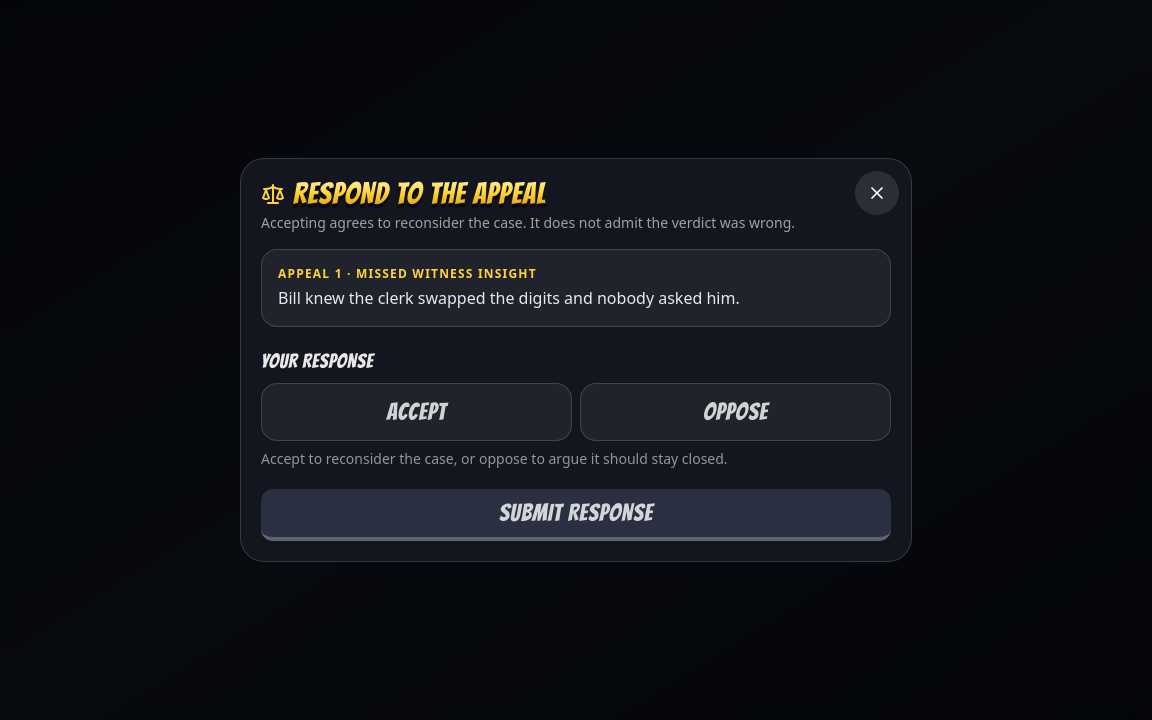
Test: AppealResponseForm › cannot be sent until a choice and an explanation are given, then sends the choice and the picked items
Later steps or results of the test are not shown.
Expected: the button "SUBMIT RESPONSE" is disabled, [261, 489, 891, 541]
Click the button "OPPOSE". click: point(736, 412)
box: [580, 383, 891, 441]
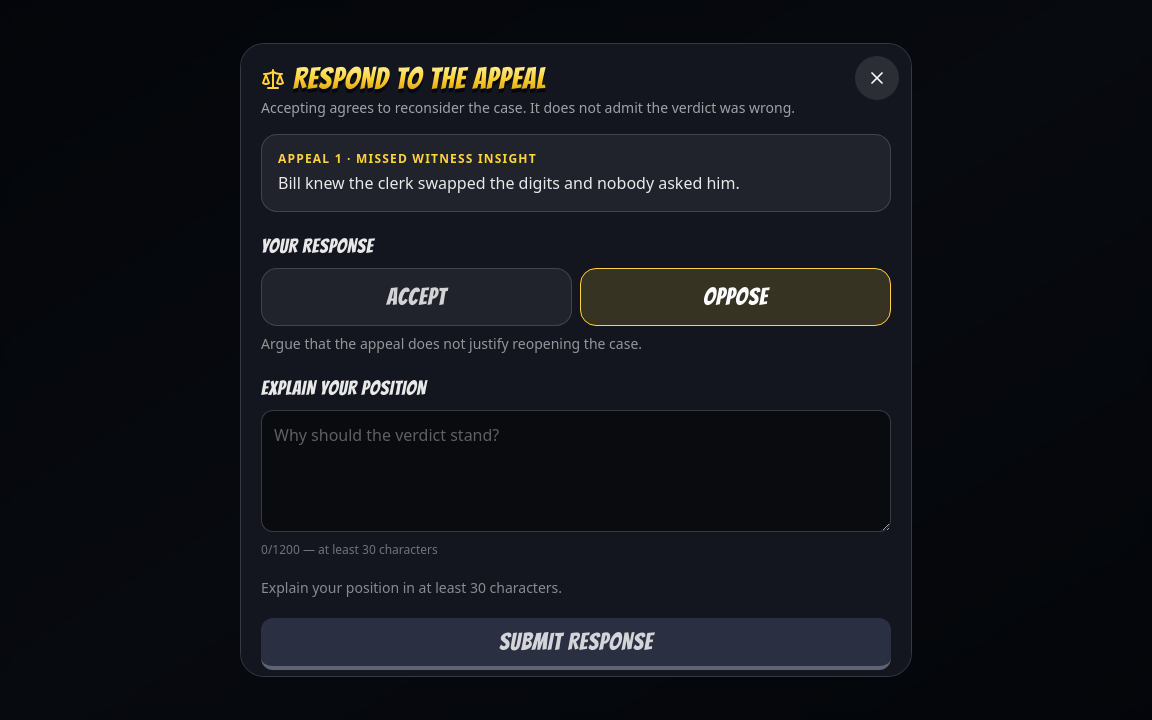
Type "The jury heard the route sheet already, so nothing was missed here." into the text box labelled "EXPLAIN YOUR POSITION". click: point(576, 471)
box: [261, 410, 891, 532]
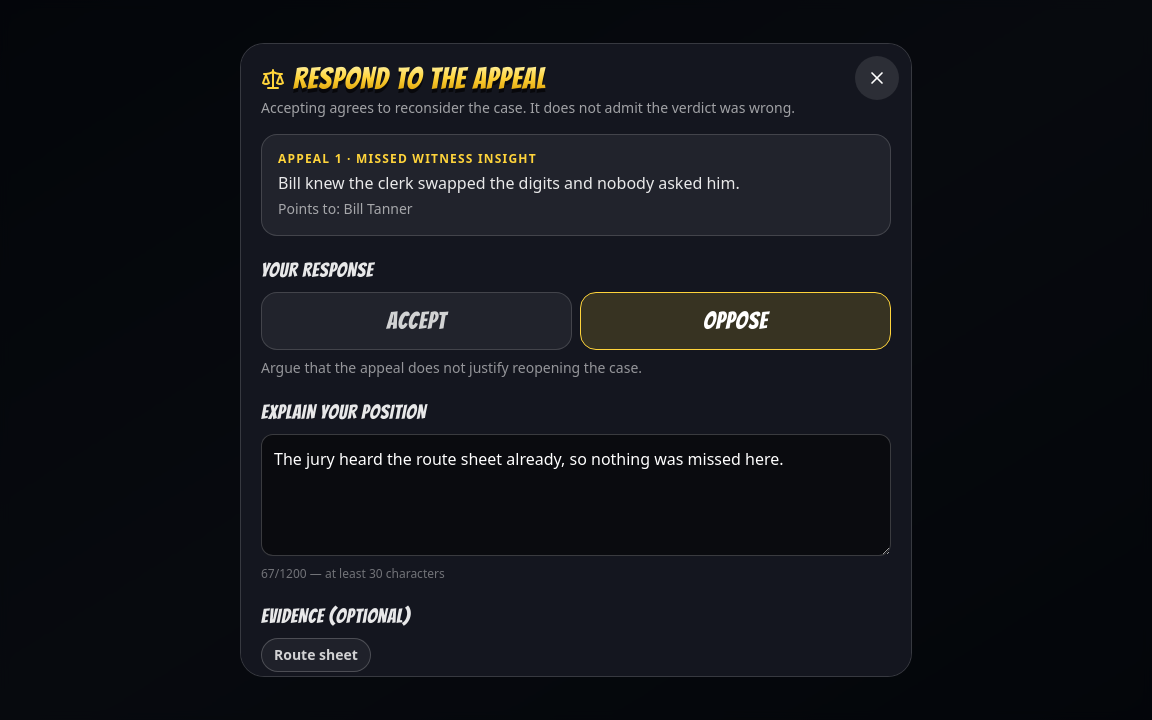
Result: the button "Route sheet" is shown
Click the button "Route sheet". click: point(316, 655)
box: [261, 638, 371, 672]
(page scrolled)
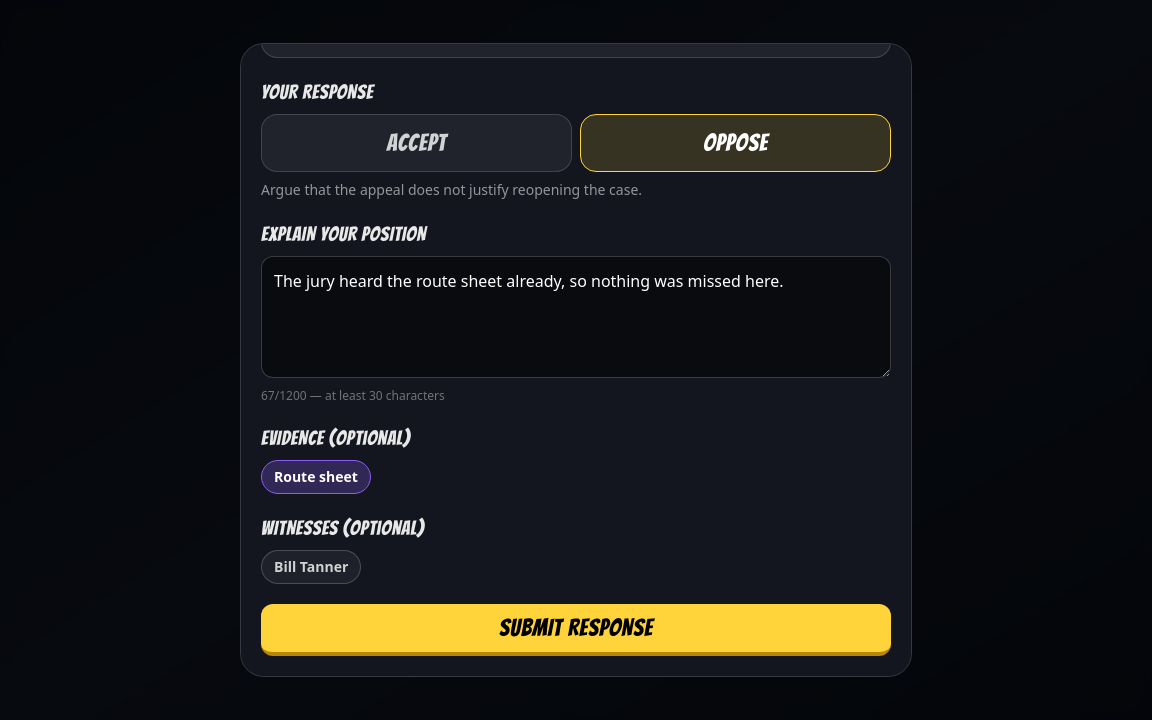
Result: the button "SUBMIT RESPONSE" is enabled at [261, 604, 891, 656]
